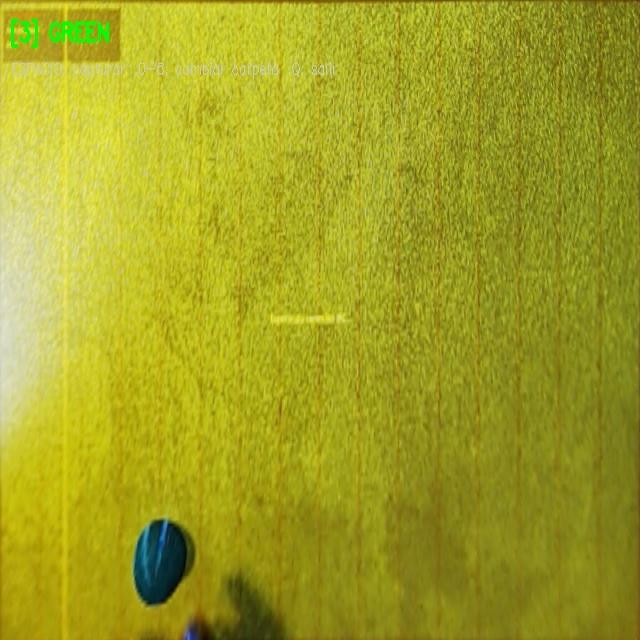green: (134, 524, 186, 603)
